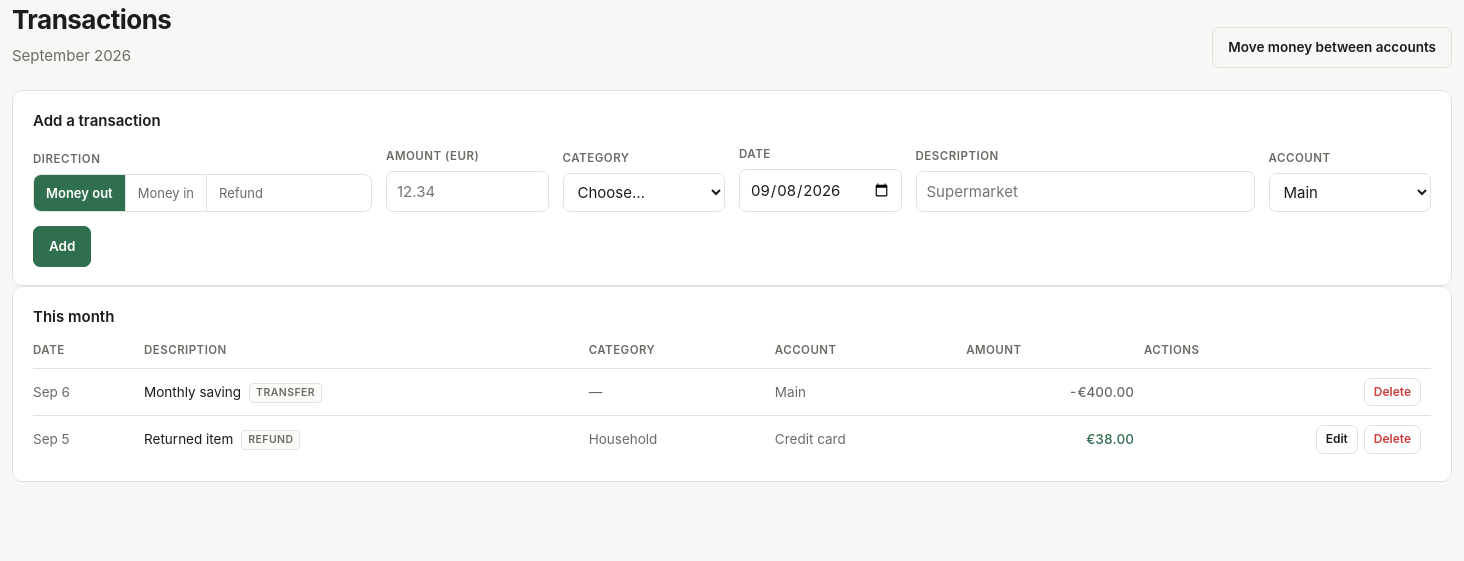
Test case: Transactions entry › rejects more precision than the currency has, rather than rounding it away
This screenshot has width=1464, height=561.
Type "10.123" into the field labelled "Amount (EUR)" at [467, 191], box [386, 171, 548, 212]
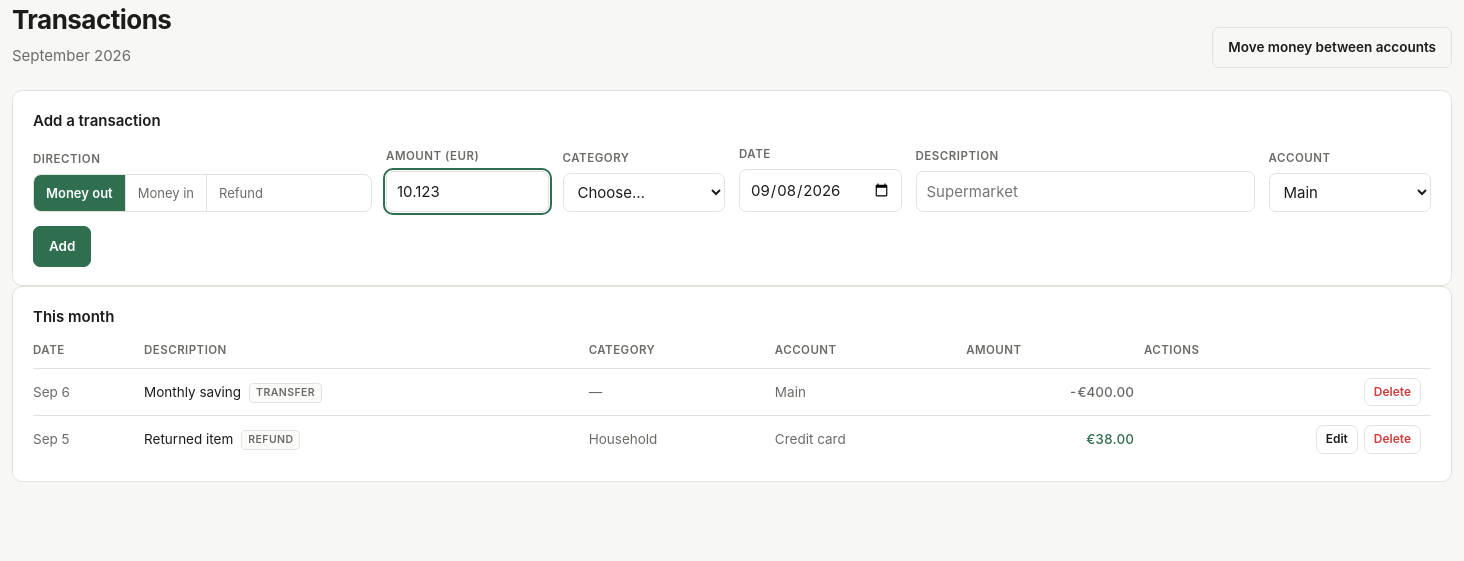
Select "Food" in the dropdown labelled "Category" at [644, 192], box [562, 173, 725, 212]
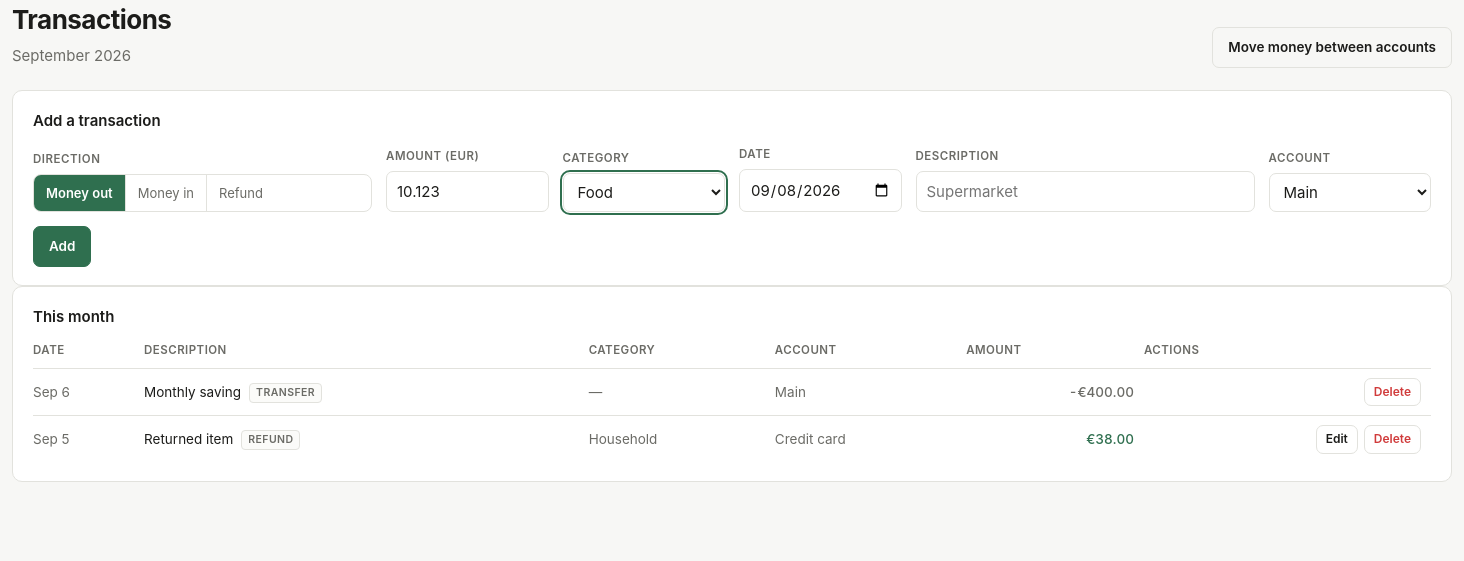
Click the button "Add" at [62, 246], box [33, 226, 92, 267]
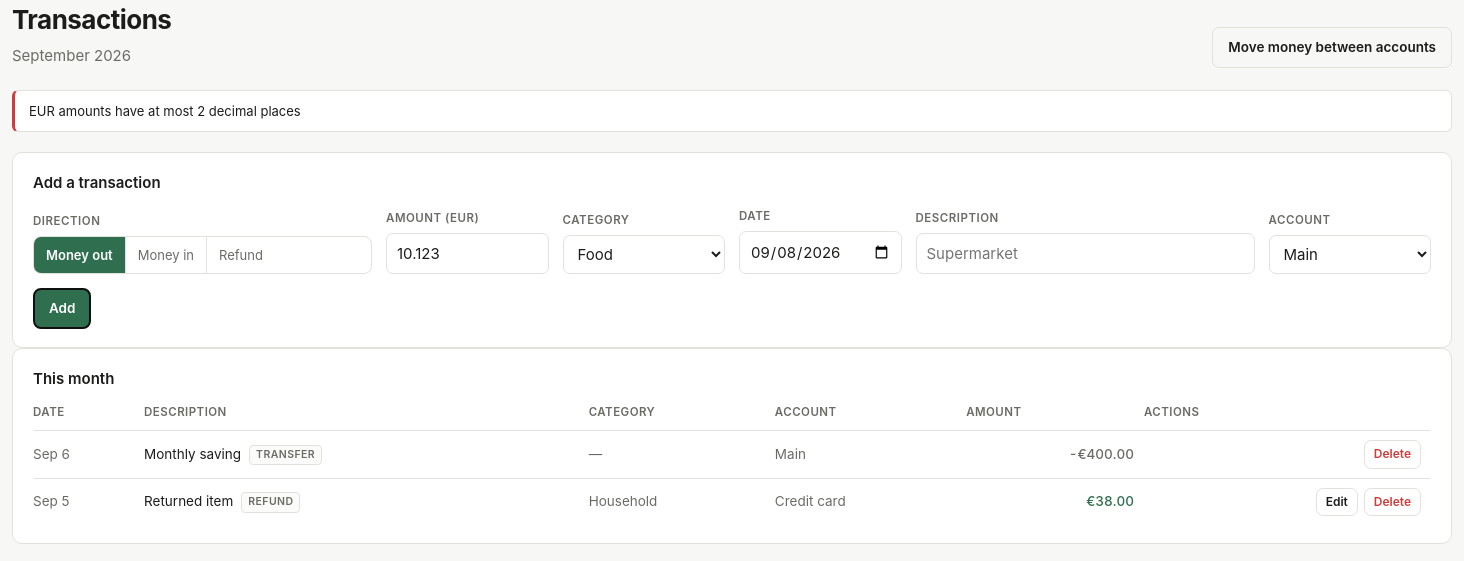
Result: the message reads "EUR amounts have at most 2 decimal places" at [29, 102, 301, 118]
